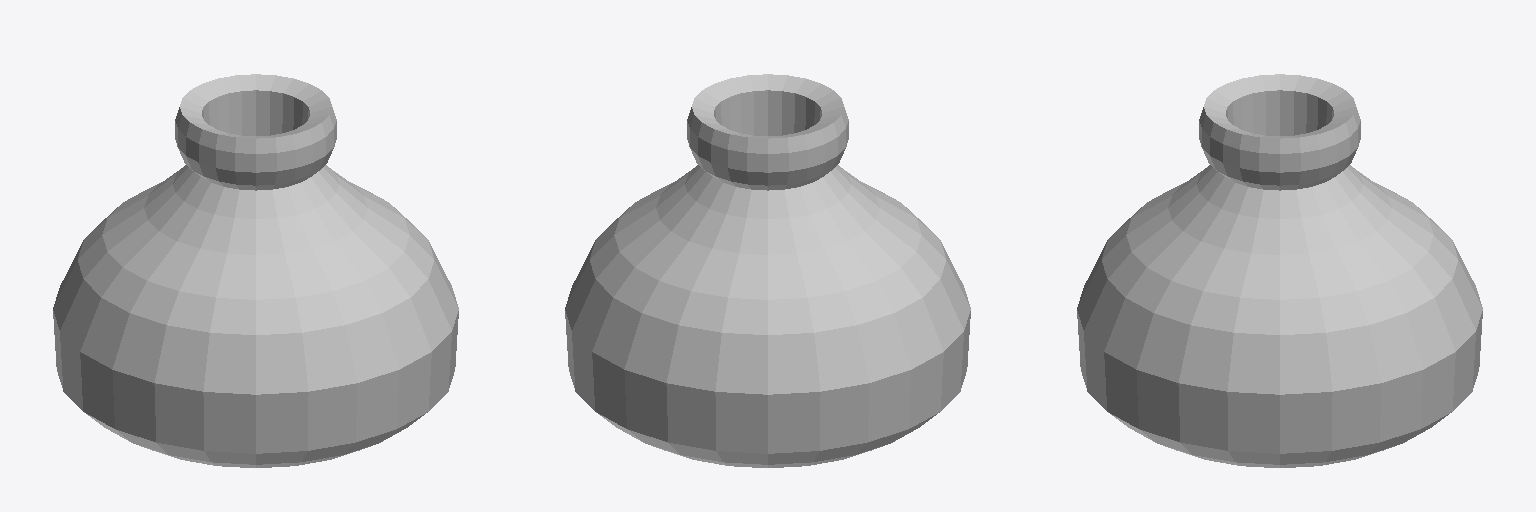
Rendered from potC_decorated.obj.
3 renders of one model, left to right at view 1: azimuth 30°, elevation 25°; view 2: azimuth 150°, elevation 25°; view 3: azimuth 270°, elevation 25°, orthographic.
Parts seen in each view (by area): view 1: potC_decorated_Cylinder.007; view 2: potC_decorated_Cylinder.007; view 3: potC_decorated_Cylinder.007.
Part boxes in pixels (bbox=[...]): potC_decorated_Cylinder.007: bbox=[53, 74, 458, 467]; potC_decorated_Cylinder.007: bbox=[565, 74, 970, 467]; potC_decorated_Cylinder.007: bbox=[1077, 74, 1482, 467].
Size of the model in its own units: 1.12 by 0.911 by 1.12.